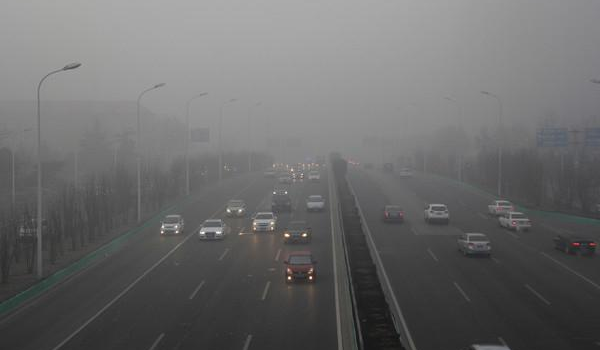car: (283, 251, 319, 283), (552, 233, 597, 257), (456, 232, 492, 257), (283, 220, 312, 245), (498, 211, 531, 232), (199, 219, 226, 241), (251, 211, 277, 233), (424, 203, 450, 225), (270, 191, 292, 215), (159, 214, 184, 235), (381, 205, 406, 224), (488, 200, 514, 218), (225, 199, 248, 218), (305, 195, 326, 213), (272, 183, 290, 198), (277, 172, 292, 186), (308, 171, 321, 182), (398, 167, 410, 178), (383, 162, 394, 173), (264, 168, 276, 178), (292, 170, 304, 180), (363, 161, 372, 169)
